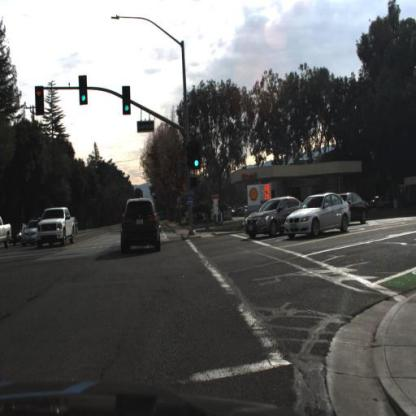car: (285, 192, 353, 241), (117, 193, 163, 257), (244, 195, 297, 244), (39, 209, 77, 247), (335, 191, 372, 225), (22, 220, 44, 249), (2, 212, 14, 252)
trafficLight-Green: (191, 140, 203, 172), (122, 84, 133, 118), (80, 76, 89, 106), (123, 84, 131, 117), (194, 152, 202, 173)
trafficLight-RedLeft: (37, 88, 45, 116)
